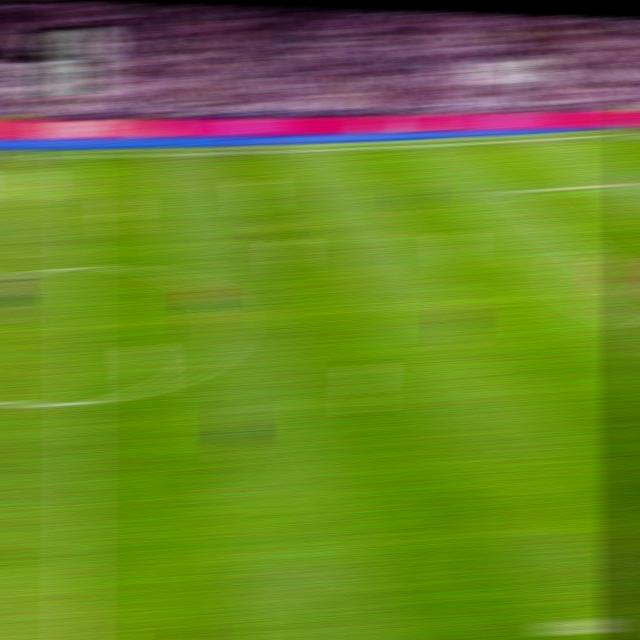bigarea_top_inner: (502, 183, 529, 198)
corner: (611, 126, 640, 138)
halfcircle_bottom: (63, 387, 96, 416)
halfcircle_top: (63, 255, 95, 279)
midline_top_intersection: (64, 149, 92, 164)
top_arc_area_intersection: (567, 239, 595, 255)
